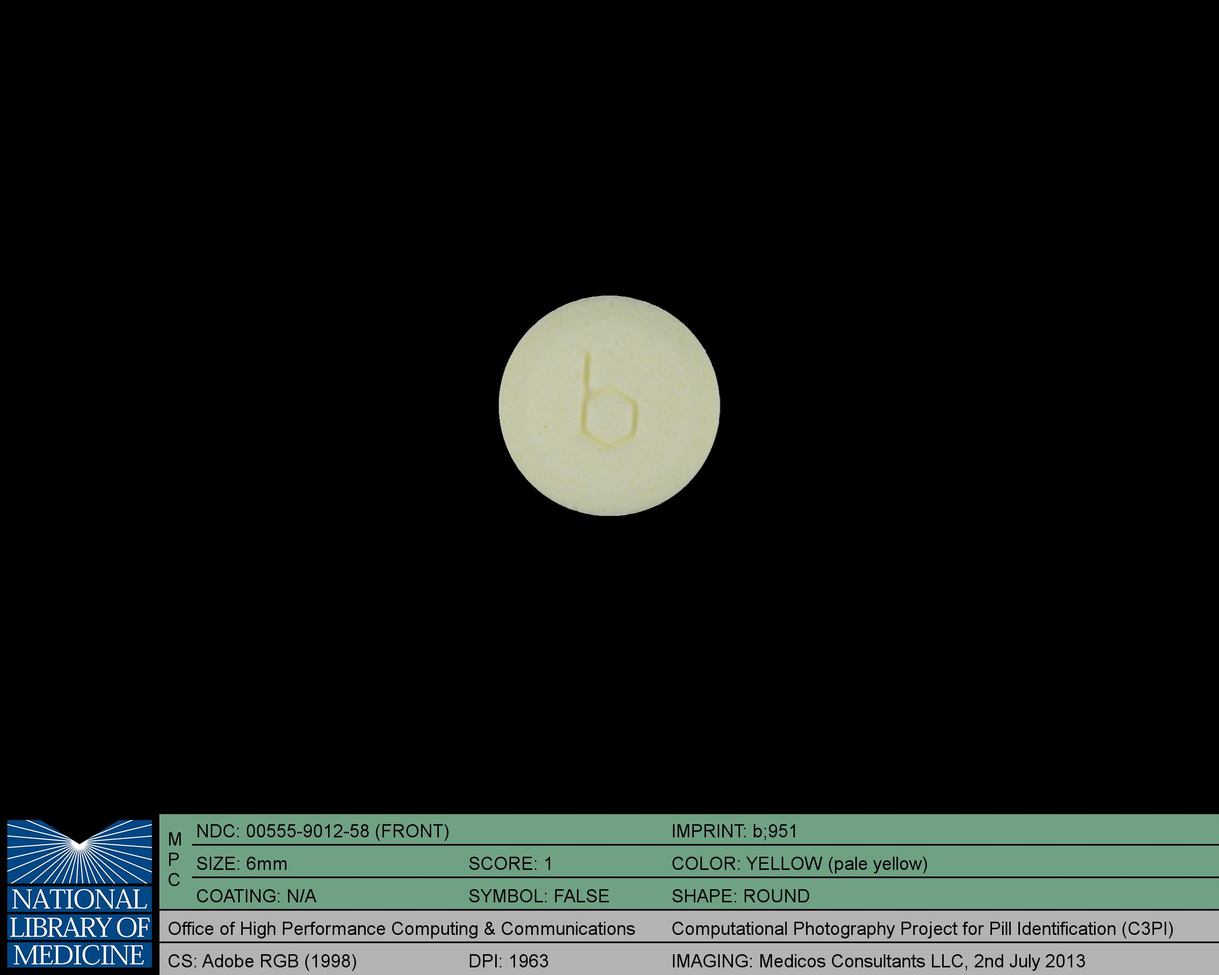Pill: (486, 279, 732, 534)
